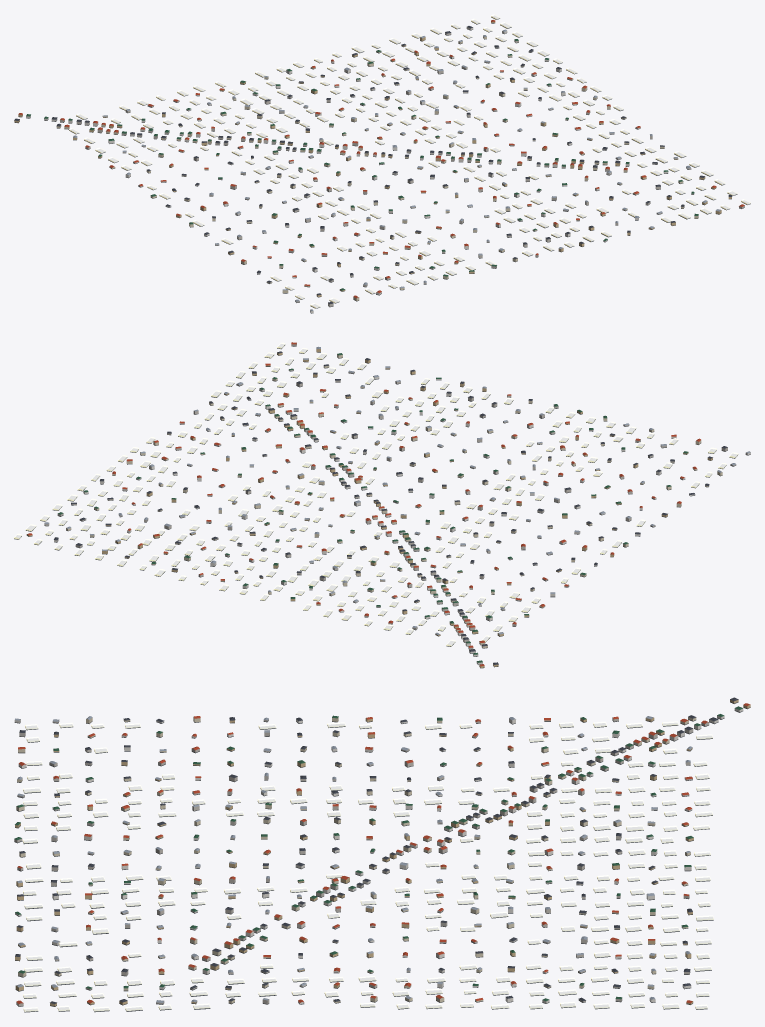
File: buildings_T_E09_S05.glb
The picture shows the model from 3 angles, top to bottom: view 1: azimuth 30°, elevation 25°; view 2: azimuth 150°, elevation 25°; view 3: azimuth 270°, elevation 25°; orthographic projection. The views are drawn at different scales.
Parts seen in each view (by area): view 1: T_E09_S05_roofs_agri_greenhouse_arch, T_E09_S05_slope_seating_foundations, T_E09_S05_walls_wall_dalat_cream_stucco, T_E09_S05_walls_wall_pastel_sand_gray, T_E09_S05_roofs_roof_slate_French_villa_hip, T_E09_S05_walls_wall_french_ochre_villa, T_E09_S05_roofs_roof_terracotta_gable, T_E09_S05_walls_wall_modern_warm_white, T_E09_S05_roofs_roof_pine_green_hip, T_E09_S05_roofs_roof_zinc_silver_gable; view 2: T_E09_S05_roofs_agri_greenhouse_arch, T_E09_S05_slope_seating_foundations, T_E09_S05_walls_wall_dalat_cream_stucco, T_E09_S05_walls_wall_pastel_sand_gray, T_E09_S05_roofs_roof_slate_French_villa_hip, T_E09_S05_walls_wall_french_ochre_villa, T_E09_S05_roofs_roof_terracotta_gable, T_E09_S05_walls_wall_modern_warm_white, T_E09_S05_roofs_roof_pine_green_hip, T_E09_S05_roofs_roof_zinc_silver_gable; view 3: T_E09_S05_roofs_agri_greenhouse_arch, T_E09_S05_slope_seating_foundations, T_E09_S05_walls_wall_dalat_cream_stucco, T_E09_S05_walls_wall_pastel_sand_gray, T_E09_S05_walls_wall_french_ochre_villa, T_E09_S05_roofs_roof_slate_French_villa_hip, T_E09_S05_walls_wall_modern_warm_white, T_E09_S05_roofs_roof_terracotta_gable, T_E09_S05_roofs_roof_pine_green_hip, T_E09_S05_roofs_roof_zinc_silver_gable.
Part boxes in pixels (x1,y1,x2,y2): T_E09_S05_roofs_agri_greenhouse_arch: (69, 14, 750, 308); T_E09_S05_slope_seating_foundations: (14, 16, 750, 313); T_E09_S05_walls_wall_dalat_cream_stucco: (56, 36, 698, 300); T_E09_S05_walls_wall_pastel_sand_gray: (60, 32, 744, 306); T_E09_S05_roofs_roof_slate_French_villa_hip: (14, 26, 731, 304); T_E09_S05_walls_wall_french_ochre_villa: (14, 21, 731, 296); T_E09_S05_roofs_roof_terracotta_gable: (18, 20, 744, 298); T_E09_S05_walls_wall_modern_warm_white: (26, 27, 668, 313); T_E09_S05_roofs_roof_pine_green_hip: (26, 39, 698, 290); T_E09_S05_roofs_roof_zinc_silver_gable: (73, 29, 720, 311); T_E09_S05_roofs_agri_greenhouse_arch: (14, 342, 738, 646); T_E09_S05_slope_seating_foundations: (14, 344, 750, 668); T_E09_S05_walls_wall_dalat_cream_stucco: (66, 354, 722, 648); T_E09_S05_walls_wall_pastel_sand_gray: (57, 343, 736, 649); T_E09_S05_roofs_roof_slate_French_villa_hip: (54, 351, 727, 664); T_E09_S05_walls_wall_french_ochre_villa: (26, 349, 712, 667); T_E09_S05_roofs_roof_terracotta_gable: (27, 342, 700, 666); T_E09_S05_walls_wall_modern_warm_white: (44, 376, 750, 664); T_E09_S05_roofs_roof_pine_green_hip: (58, 353, 688, 662); T_E09_S05_roofs_roof_zinc_silver_gable: (44, 346, 750, 635); T_E09_S05_roofs_agri_greenhouse_arch: (22, 721, 713, 1011); T_E09_S05_slope_seating_foundations: (14, 702, 750, 1012); T_E09_S05_walls_wall_dalat_cream_stucco: (16, 716, 696, 1003); T_E09_S05_walls_wall_pastel_sand_gray: (14, 717, 709, 1006); T_E09_S05_walls_wall_french_ochre_villa: (15, 699, 750, 1006); T_E09_S05_roofs_roof_slate_French_villa_hip: (15, 697, 738, 1003); T_E09_S05_walls_wall_modern_warm_white: (14, 708, 743, 1004); T_E09_S05_roofs_roof_terracotta_gable: (16, 703, 750, 1003); T_E09_S05_roofs_roof_pine_green_hip: (14, 706, 742, 1001); T_E09_S05_roofs_roof_zinc_silver_gable: (15, 716, 692, 1002).
Size of the model in its own units: 1836 by 27.1 by 1847.
